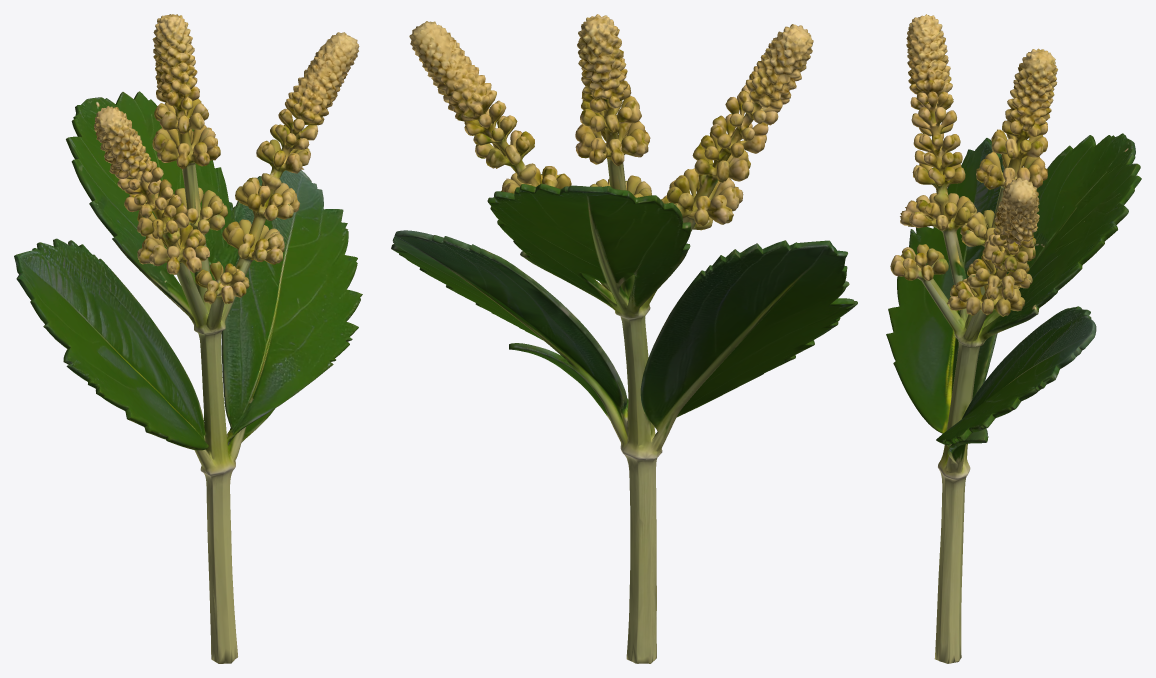
File: zhulan.glb
3 renders of one model, left to right at view 1: azimuth 30°, elevation 25°; view 2: azimuth 150°, elevation 25°; view 3: azimuth 270°, elevation 25°, orthographic. The views are drawn at different scales.
Parts seen in each view (by area): view 1: node_0; view 2: node_0; view 3: node_0.
Boxes of the visible parts, x1,y1,x2,y2 form: node_0: [14, 14, 362, 663]; node_0: [391, 14, 857, 663]; node_0: [886, 14, 1141, 663].
Bounding box in the file's own units: 0.7224 × 1.15 × 0.4402.
Materials: 1 (1 with a texture image).
